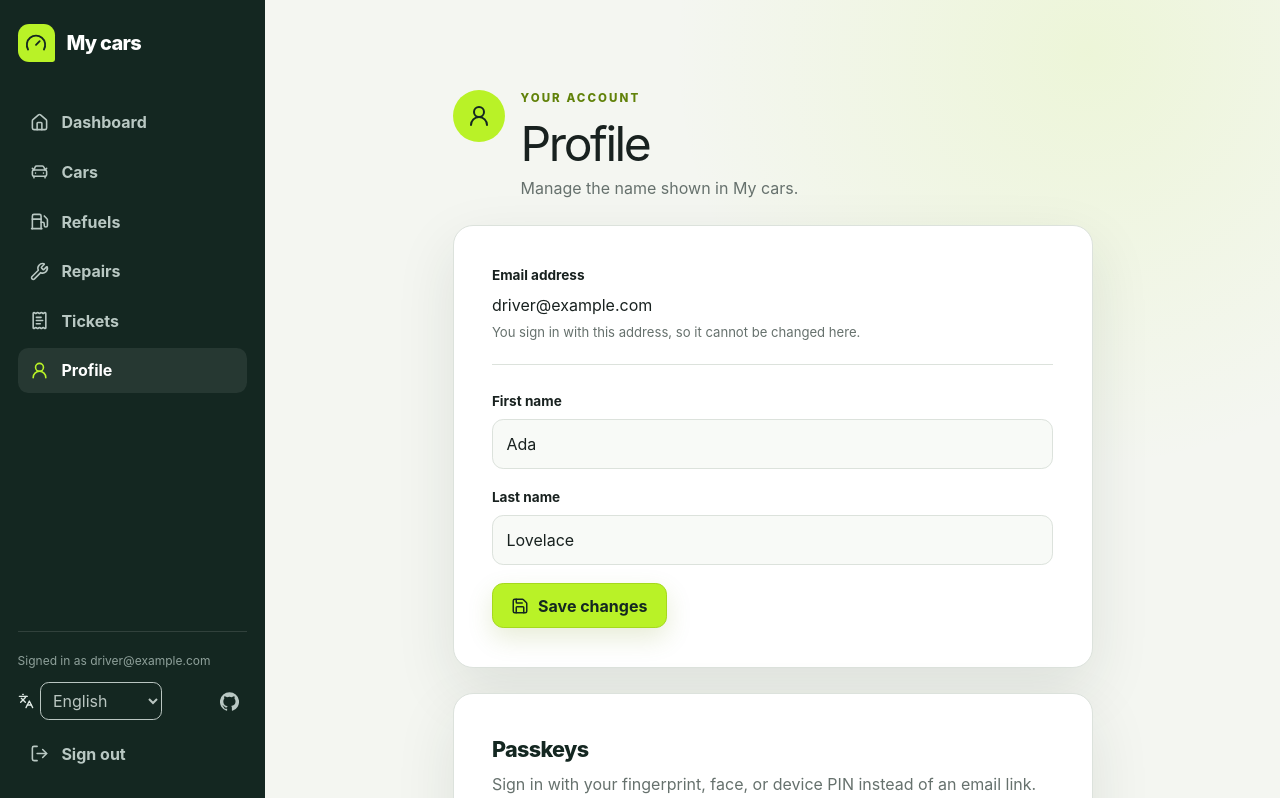
Test: profile screen › follows a switch to German
This screenshot has width=1280, height=798.
Check: the field labelled "First name" is shown, box [506, 420, 1038, 468]
Select "Deutsch" in the dropdown named "Language". click: coordinates (101, 701)
box: [40, 682, 162, 720]
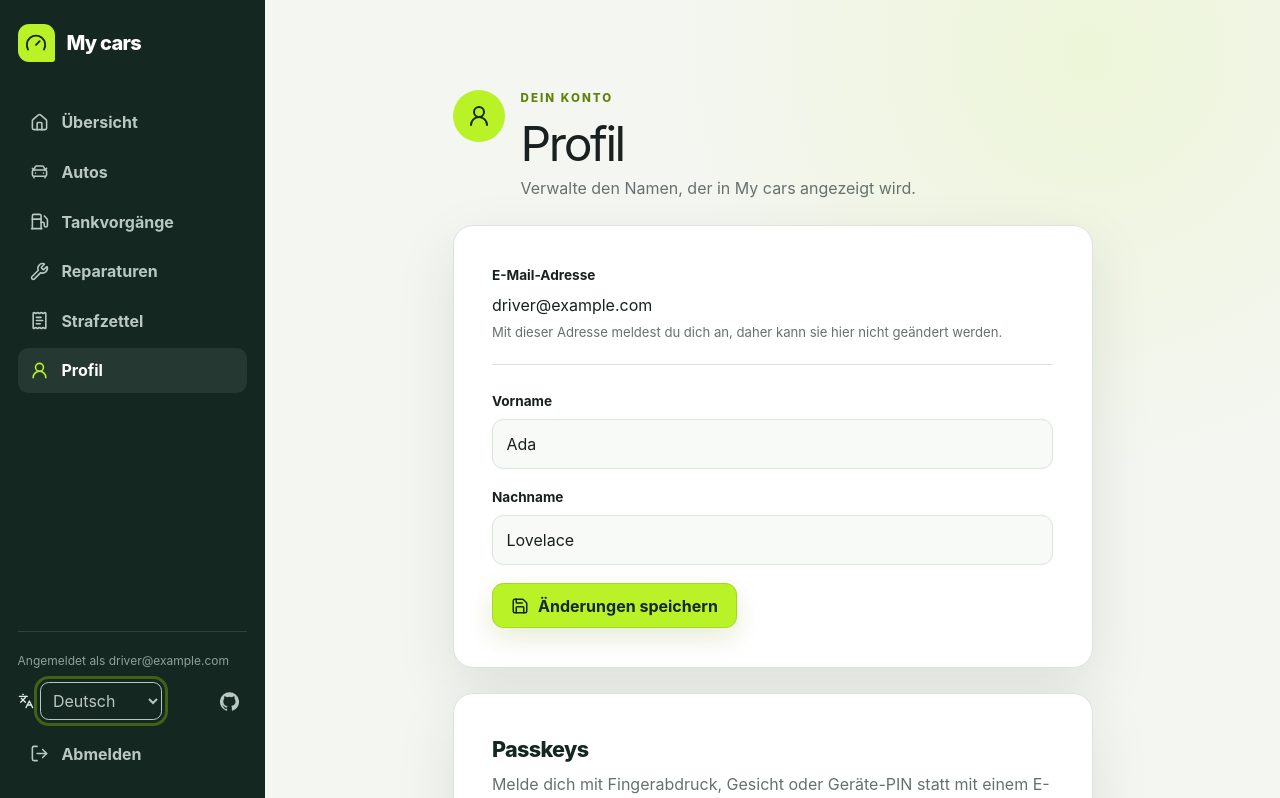
Check: the text "E-Mail-Adresse" is shown, box [492, 267, 595, 283]
Check: the text "daher kann sie hier nicht geändert werden" is shown, box [492, 324, 1002, 340]
Check: the button "Änderungen speichern" is shown, box [492, 583, 737, 628]
